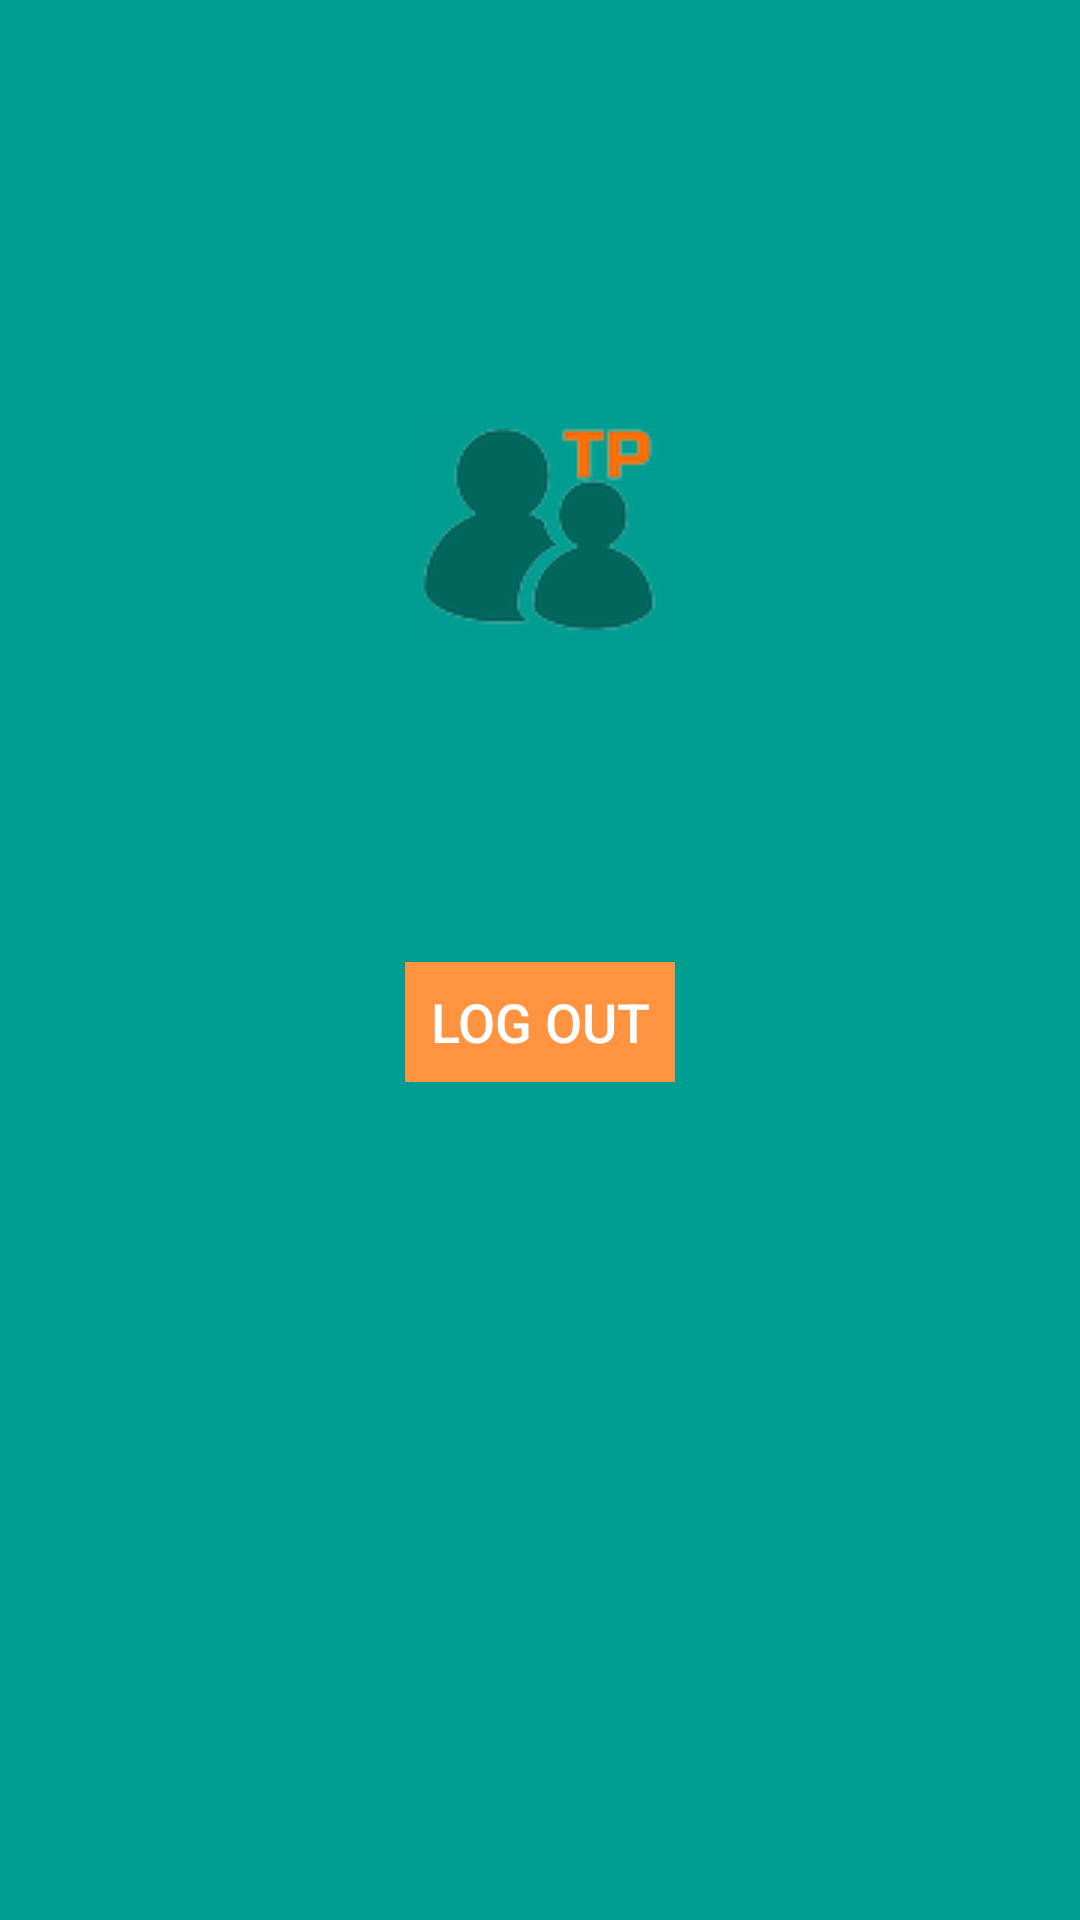

Locate icon controls on the screen. Image size 1080×1920, boxes as Rect(x1, y1, x2, y2).
loadinglogo: Rect(424, 428, 655, 630)
